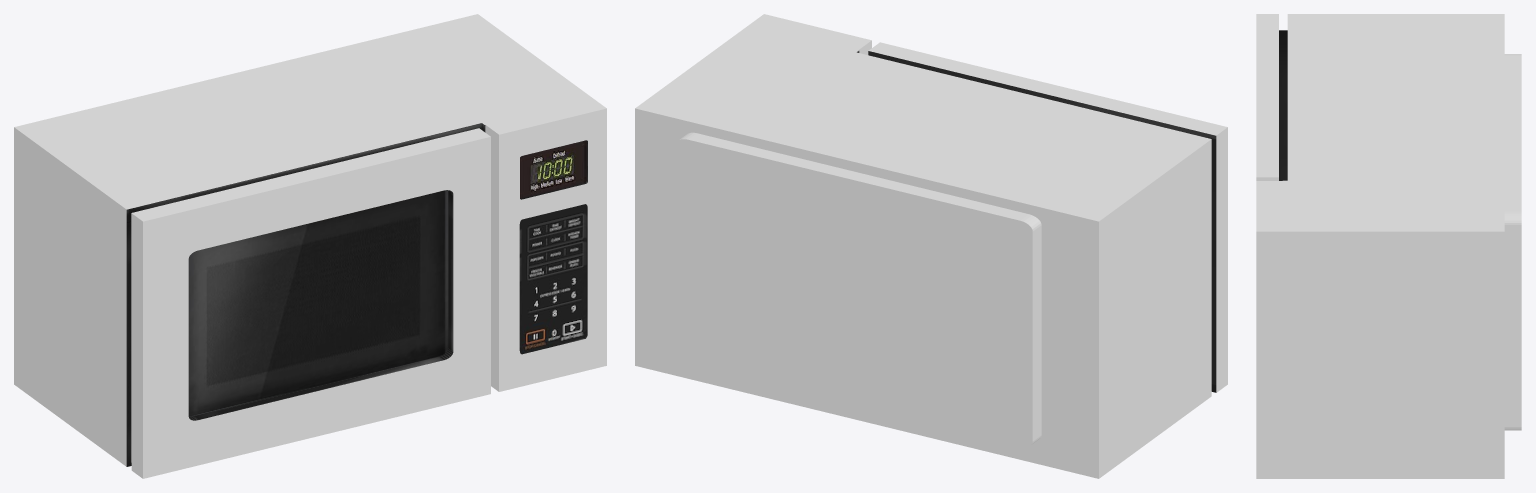
The model's file is microwave.glb.
3 renders of one model, left to right at view 1: azimuth 30°, elevation 25°; view 2: azimuth 150°, elevation 25°; view 3: azimuth 270°, elevation 25°, orthographic. The views are drawn at different scales.
Parts seen in each view (by area): view 1: Cube; view 2: Cube; view 3: Cube.
Boxes of the visible parts, x1,y1,x2,y2 form: Cube: (14,14,606,478); Cube: (635,14,1227,478); Cube: (1256,14,1521,478).
Bounding box in the file's own units: 3.77 × 2 × 1.94.
Materials: 4 (3 with a texture image).
